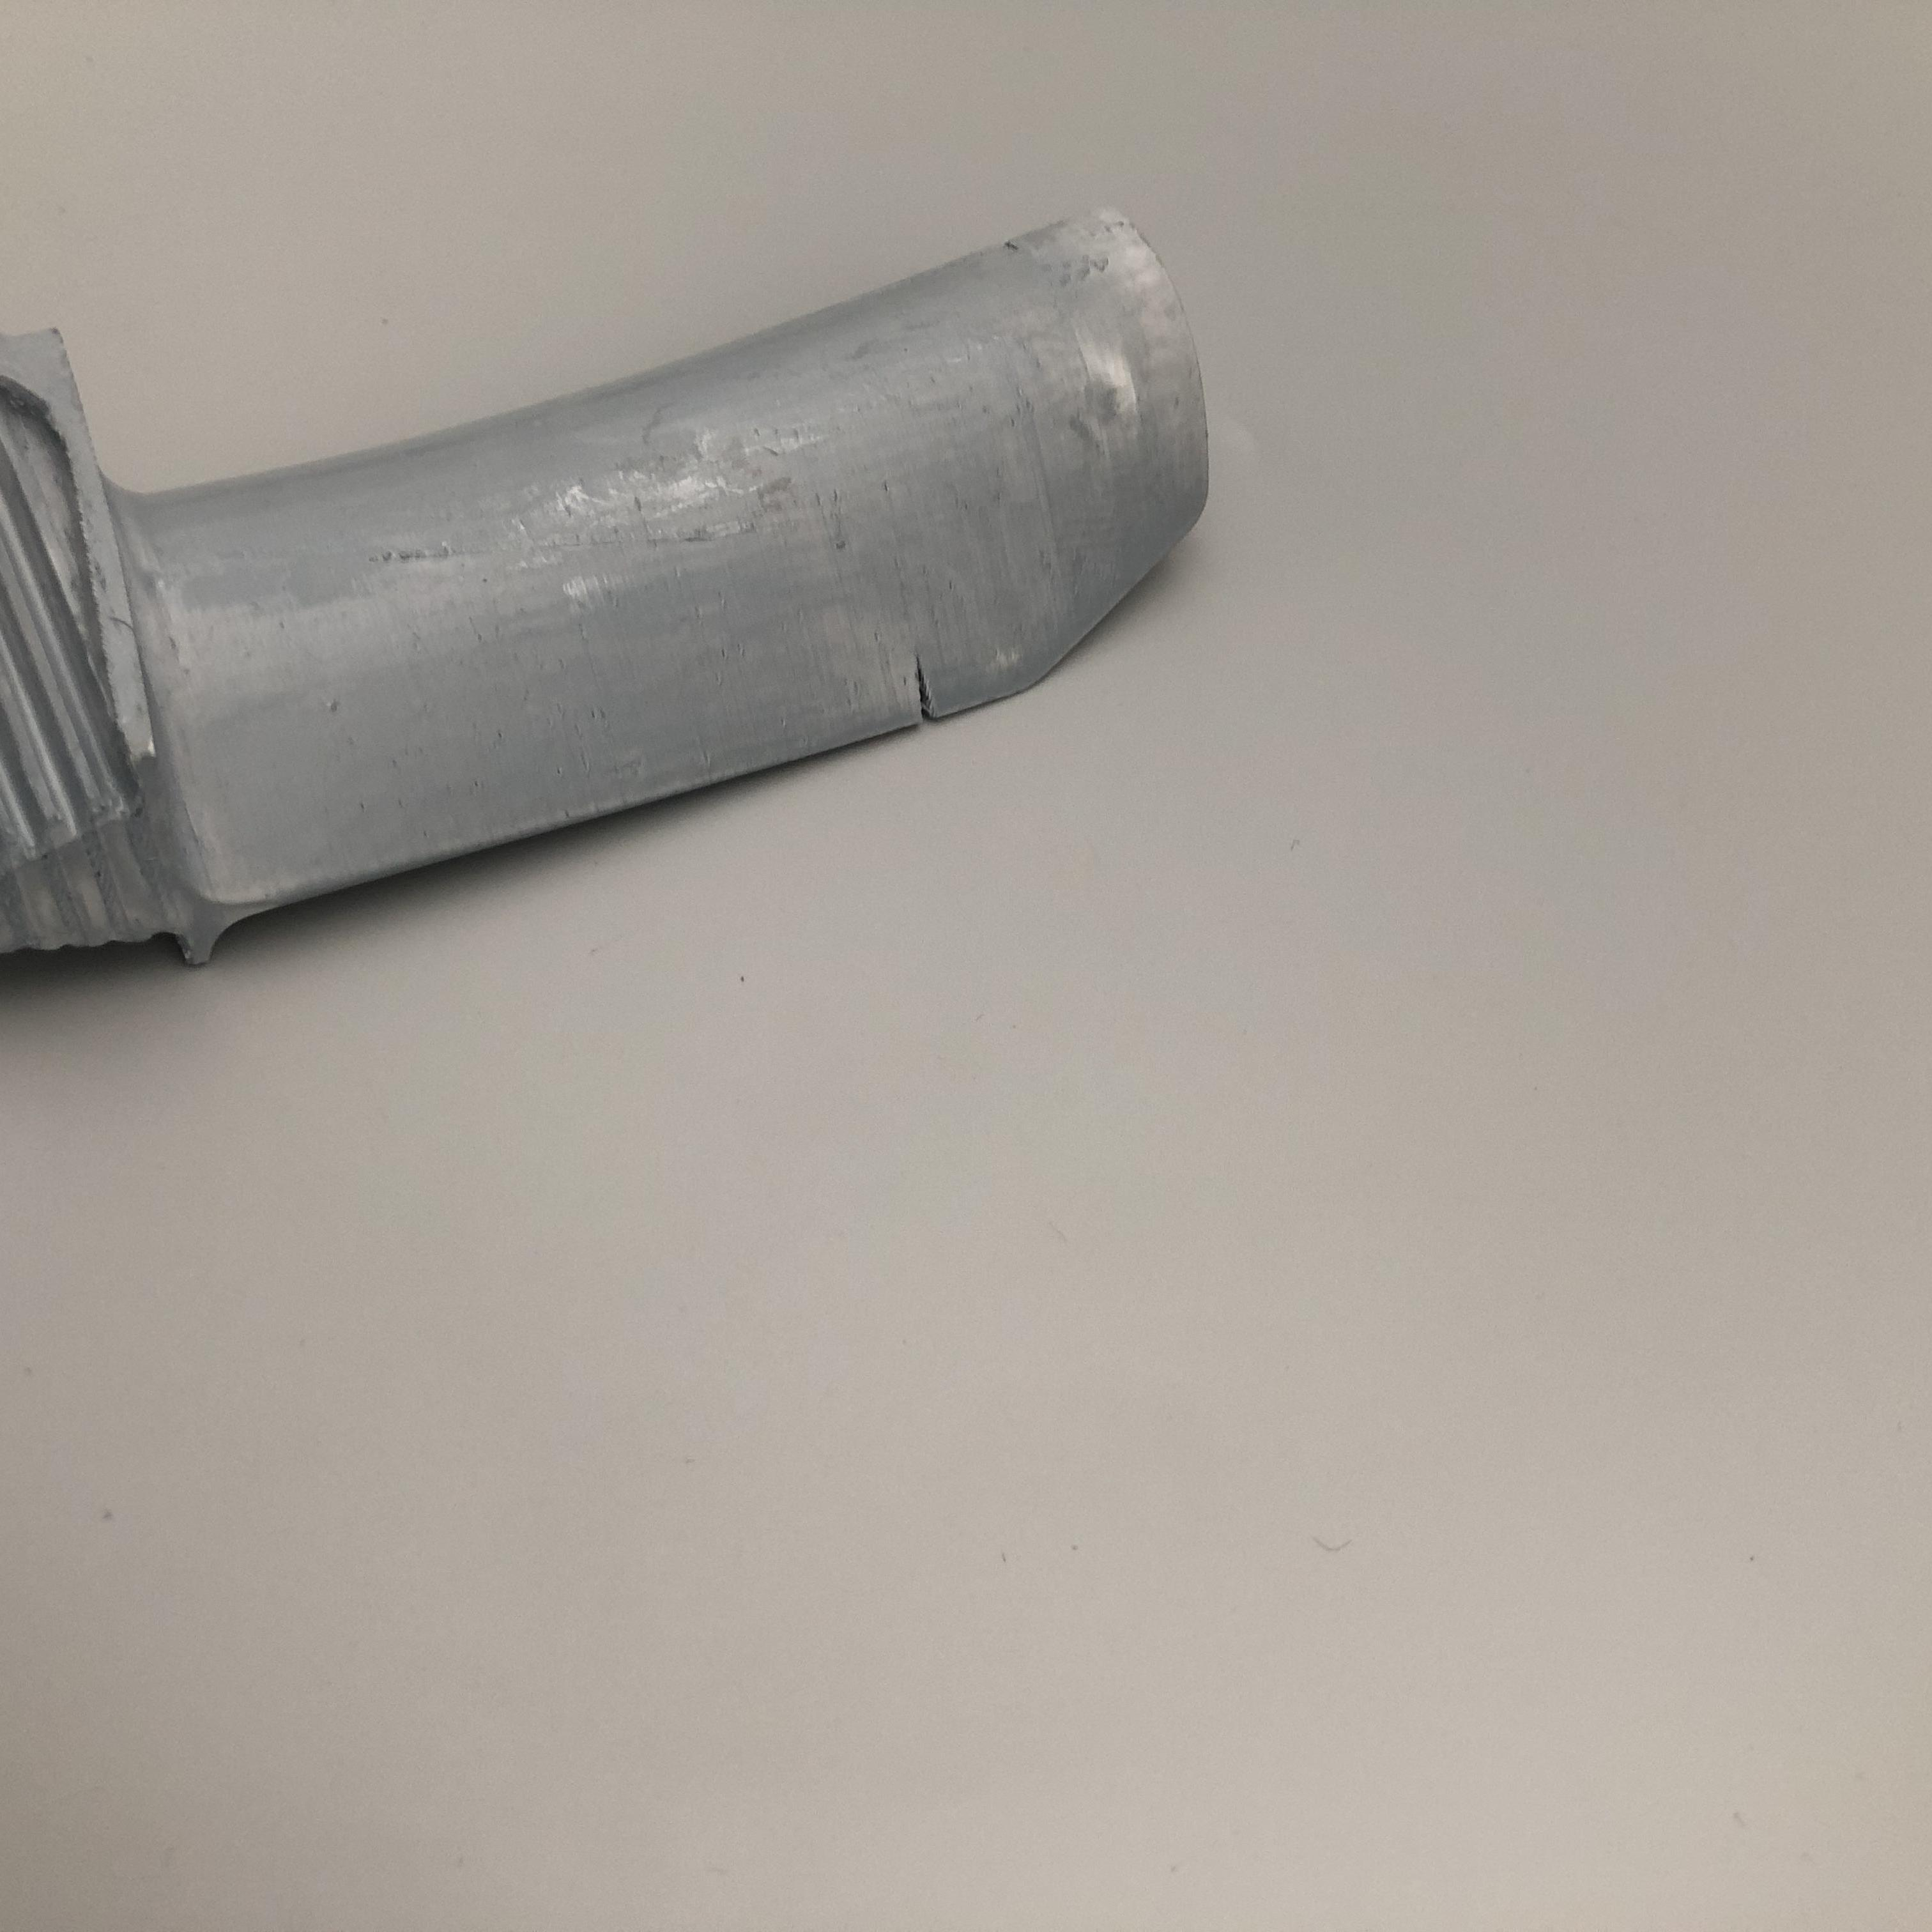groove: (899, 656, 950, 722), (994, 235, 1030, 260)
